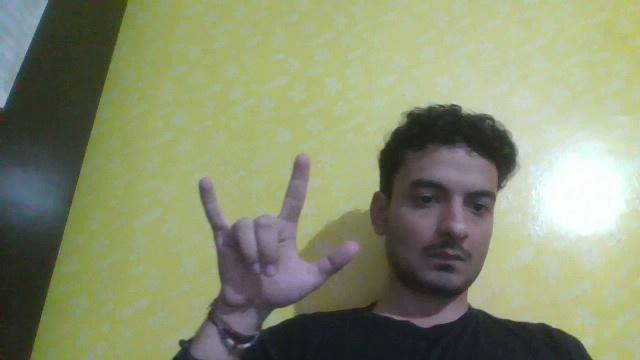Loveyou: (170, 144, 384, 328)
